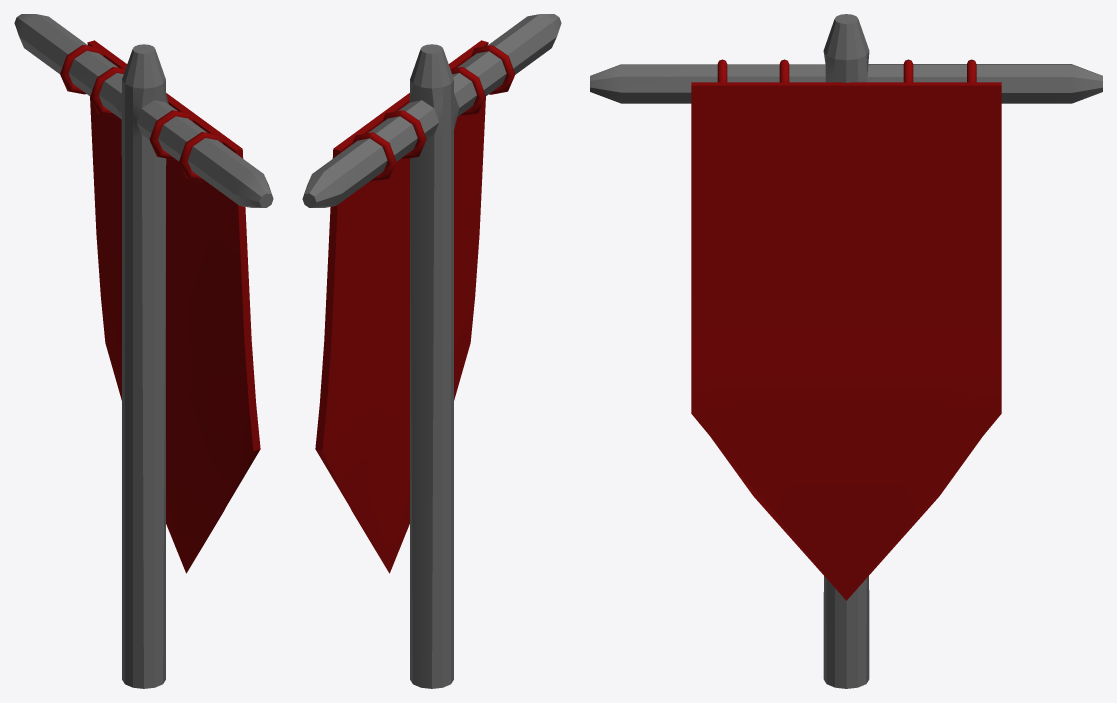
File: Banner_point.fbx
3 views of the same model, side by side, from view 1: azimuth 30°, elevation 25°; view 2: azimuth 150°, elevation 25°; view 3: azimuth 270°, elevation 25° (orthographic). The views are drawn at different scales.
Parts seen in each view (by area): view 1: pPlane2, pCylinder1; view 2: pPlane2, pCylinder1; view 3: pPlane2, pCylinder1.
Boxes of the visible parts, <box> form: pPlane2: <box>60,40,260,573</box>; pCylinder1: <box>14,14,273,688</box>; pPlane2: <box>315,40,515,573</box>; pCylinder1: <box>302,14,561,688</box>; pPlane2: <box>691,59,1001,600</box>; pCylinder1: <box>590,14,1102,688</box>.
Bounding box in the file's own units: 2.58 × 23.43 × 16.5.
